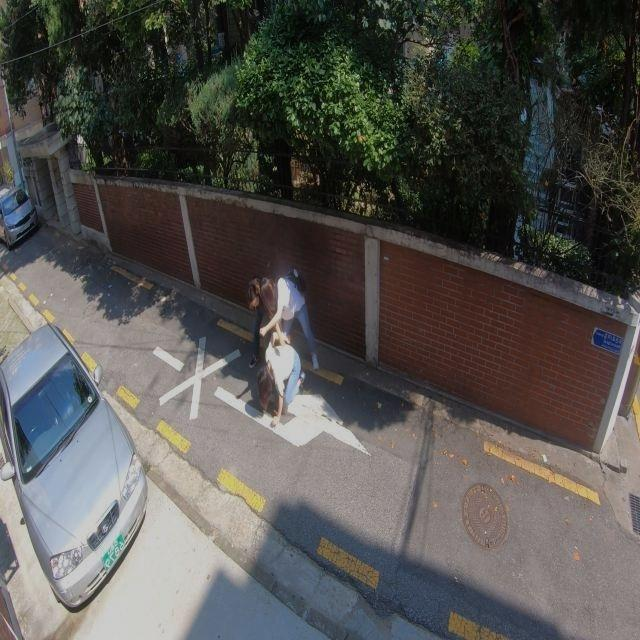fight: (241, 266, 317, 424)
